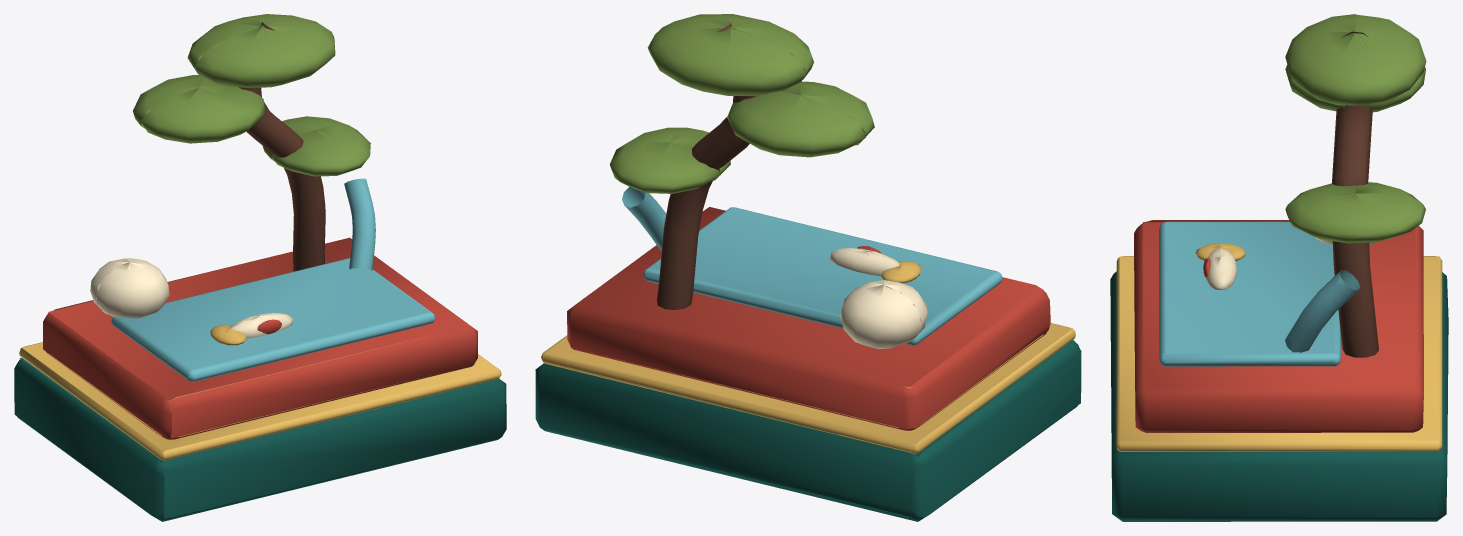
3 renders of one model, left to right at view 1: azimuth 30°, elevation 25°; view 2: azimuth 150°, elevation 25°; view 3: azimuth 270°, elevation 25°, orthographic. The views are drawn at different scales.
Visible parts, largest first — view 1: Jade footing, Bento tray, Koi pool, Cloud-pruned foliage, Brass welt, Bonsai trunk, Garden stone, Koi body, Koi tail; view 2: Bento tray, Jade footing, Cloud-pruned foliage, Koi pool, Brass welt, Bonsai trunk, Garden stone, Koi body, Koi tail; view 3: Bento tray, Jade footing, Koi pool, Cloud-pruned foliage, Brass welt, Bonsai trunk, Koi body, Koi tail.
Boxes of the visible parts, x1,y1,x2,y2 form: Jade footing: (14,358,506,521); Bento tray: (43,237,477,439); Koi pool: (111,178,435,381); Cloud-pruned foliage: (133,14,370,176); Brass welt: (19,337,501,460); Bonsai trunk: (238,22,325,271); Garden stone: (90,258,169,318); Koi body: (228,313,293,338); Koi tail: (210,324,246,345); Bento tray: (567,207,1050,430); Jade footing: (535,340,1081,521); Cloud-pruned foliage: (609,14,874,193); Koi pool: (622,187,1002,345); Brass welt: (541,323,1075,454); Bonsai trunk: (656,22,756,309); Garden stone: (840,280,927,348); Koi body: (830,248,902,276); Koi tail: (881,260,921,283); Bento tray: (1134,220,1423,432); Jade footing: (1110,271,1448,521); Koi pool: (1159,221,1360,366); Cloud-pruned foliage: (1285,14,1426,243); Brass welt: (1116,256,1442,451); Bonsai trunk: (1332,31,1378,357); Koi body: (1206,248,1237,289); Koi tail: (1195,243,1245,260).
Size of the model in its own units: 0.7827 by 0.7875 by 0.5764.
